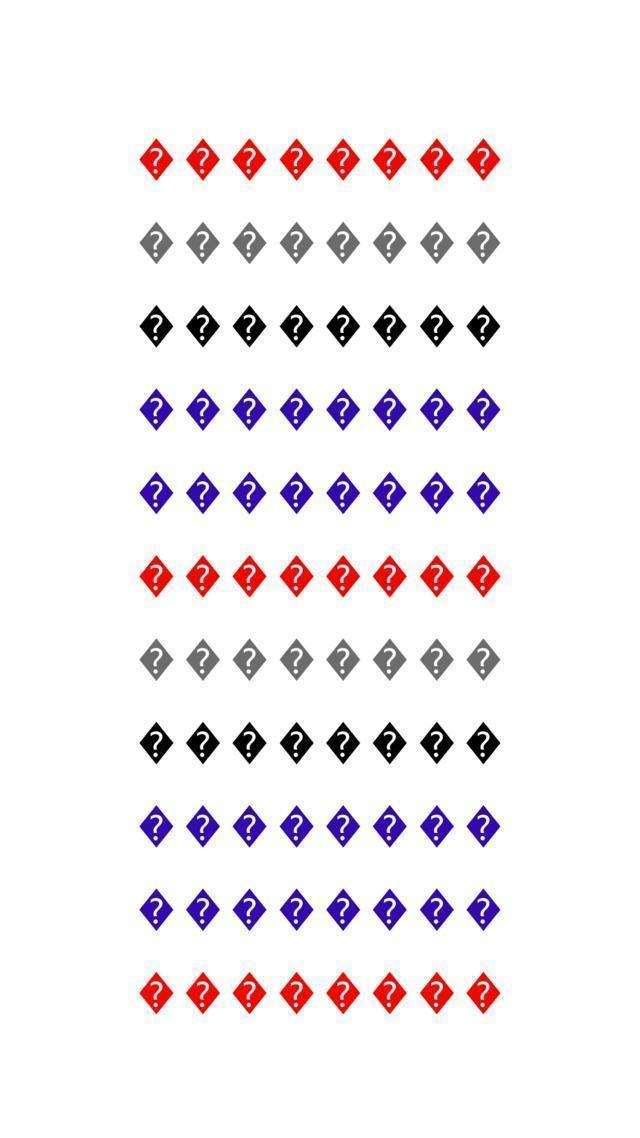ASCII: (184, 634, 224, 686), (274, 804, 318, 851), (134, 799, 174, 850), (228, 137, 270, 185), (462, 385, 502, 435), (322, 468, 362, 518), (278, 465, 315, 519), (230, 465, 268, 517), (418, 800, 456, 852), (463, 718, 503, 767), (137, 552, 176, 602), (369, 300, 407, 351), (136, 468, 174, 519), (274, 384, 316, 430), (134, 305, 176, 351), (184, 466, 221, 518), (277, 550, 314, 602), (416, 385, 456, 433), (322, 885, 362, 933), (369, 884, 409, 932), (416, 302, 455, 351), (465, 468, 503, 518), (418, 720, 456, 770), (465, 801, 503, 851), (182, 139, 224, 184), (135, 388, 176, 434), (414, 220, 455, 266), (229, 303, 268, 351), (370, 466, 408, 515), (462, 300, 502, 346), (322, 634, 362, 680), (182, 718, 218, 769), (231, 969, 270, 1016), (229, 720, 267, 768), (464, 885, 502, 933), (186, 384, 222, 434), (184, 300, 220, 350), (278, 966, 314, 1016), (463, 136, 503, 181), (276, 720, 315, 766), (138, 720, 176, 767), (324, 217, 362, 264), (278, 218, 315, 266), (280, 884, 314, 936), (372, 385, 408, 434), (229, 804, 269, 848), (322, 804, 362, 848), (417, 972, 457, 1016), (323, 387, 361, 433), (184, 552, 222, 598), (323, 972, 361, 1018), (229, 220, 267, 266), (136, 140, 174, 186), (372, 221, 409, 268), (326, 300, 360, 351), (230, 384, 266, 432), (278, 302, 314, 350), (186, 970, 222, 1018), (466, 968, 502, 1016), (369, 723, 409, 766), (416, 139, 456, 182), (272, 641, 316, 680), (322, 554, 360, 599), (230, 887, 268, 932), (184, 803, 220, 850), (373, 552, 408, 600), (134, 220, 174, 262), (136, 639, 175, 682), (466, 552, 504, 596), (369, 806, 407, 850), (233, 634, 265, 686), (418, 556, 457, 598), (136, 974, 174, 1017), (372, 639, 409, 683), (419, 638, 456, 682), (324, 138, 361, 182), (420, 885, 454, 932), (280, 134, 314, 181), (464, 639, 501, 682), (138, 885, 174, 929), (186, 886, 219, 934), (186, 218, 220, 264), (372, 970, 409, 1012), (230, 556, 266, 598), (326, 722, 362, 764), (418, 471, 453, 514), (372, 140, 408, 180), (466, 222, 500, 264)
